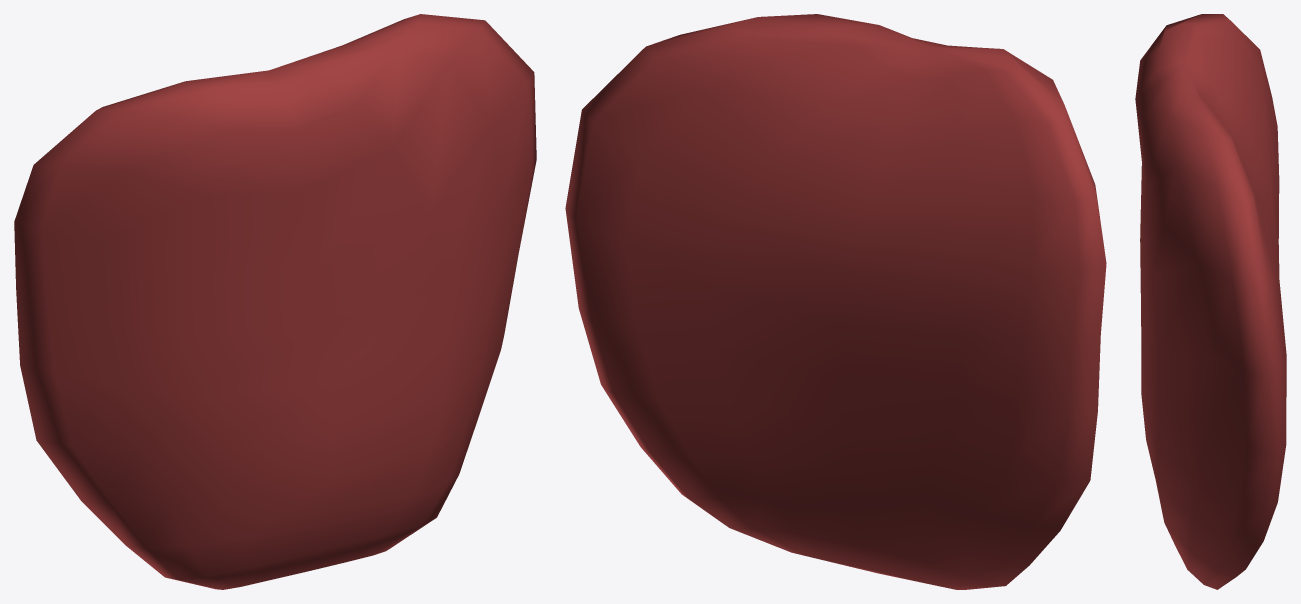
The model's file is subcutaneous-infrapatellar-bursa-l.glb.
3 views of the same model, side by side, from view 1: azimuth 30°, elevation 25°; view 2: azimuth 150°, elevation 25°; view 3: azimuth 270°, elevation 25° (orthographic). The views are drawn at different scales.
Visible parts, largest first — view 1: Subcutaneous infrapatellar bursa.l; view 2: Subcutaneous infrapatellar bursa.l; view 3: Subcutaneous infrapatellar bursa.l.
Boxes of the visible parts, left/top/right/bottom form: Subcutaneous infrapatellar bursa.l: left=14, top=14, right=536, bottom=589; Subcutaneous infrapatellar bursa.l: left=565, top=14, right=1106, bottom=589; Subcutaneous infrapatellar bursa.l: left=1135, top=14, right=1286, bottom=589.
Bounding box in the file's own units: 0.0245 × 0.0233 × 0.00683.
